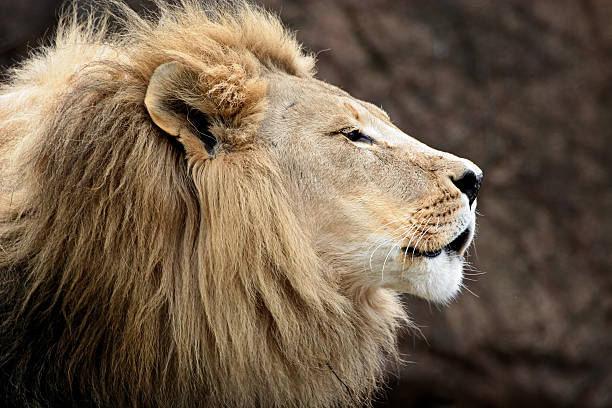lion: (5, 5, 513, 402)
